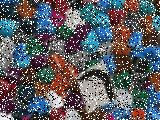Left: (76, 60, 116, 114)
